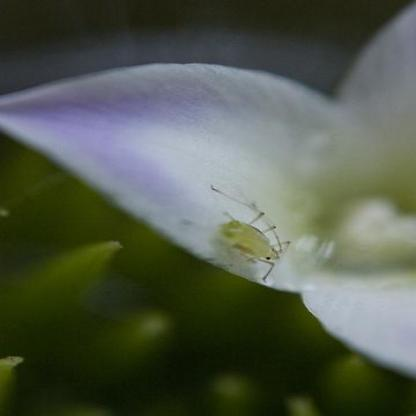aphid: (186, 183, 315, 282)
